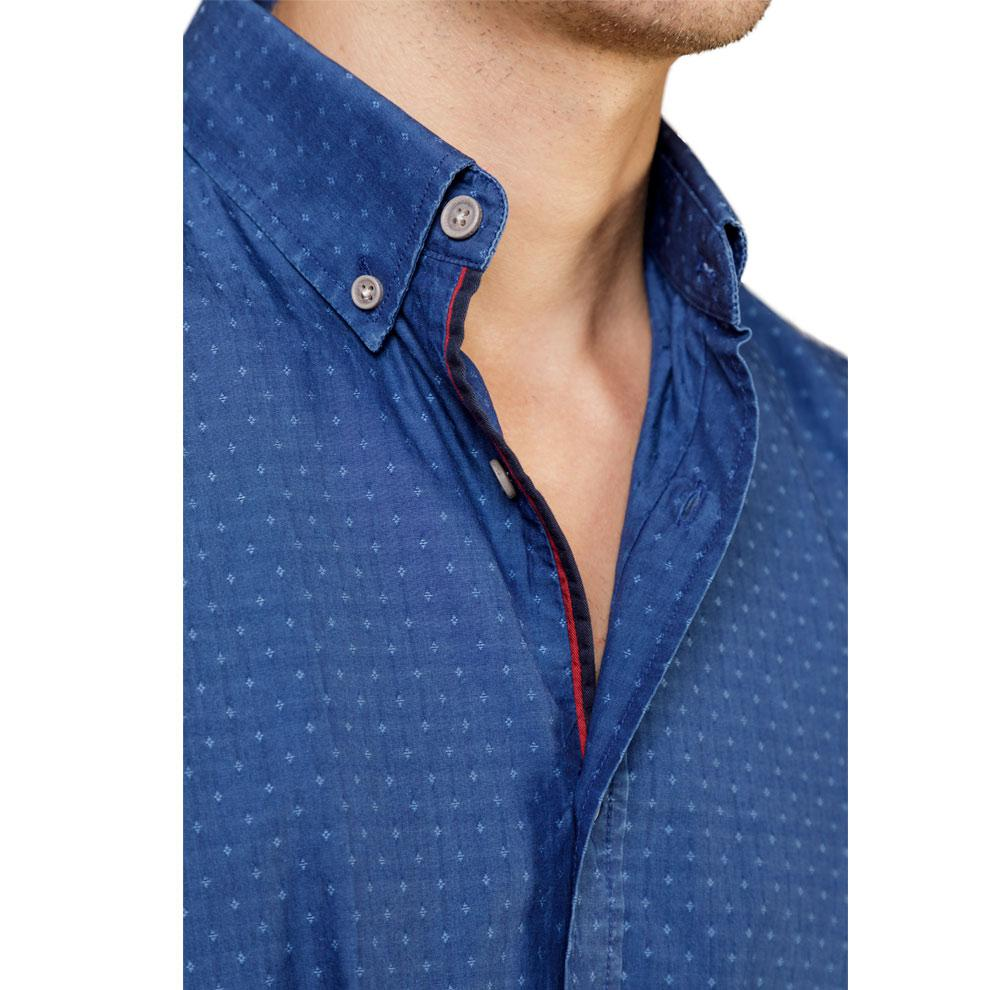teeshirt: (188, 4, 876, 990)
